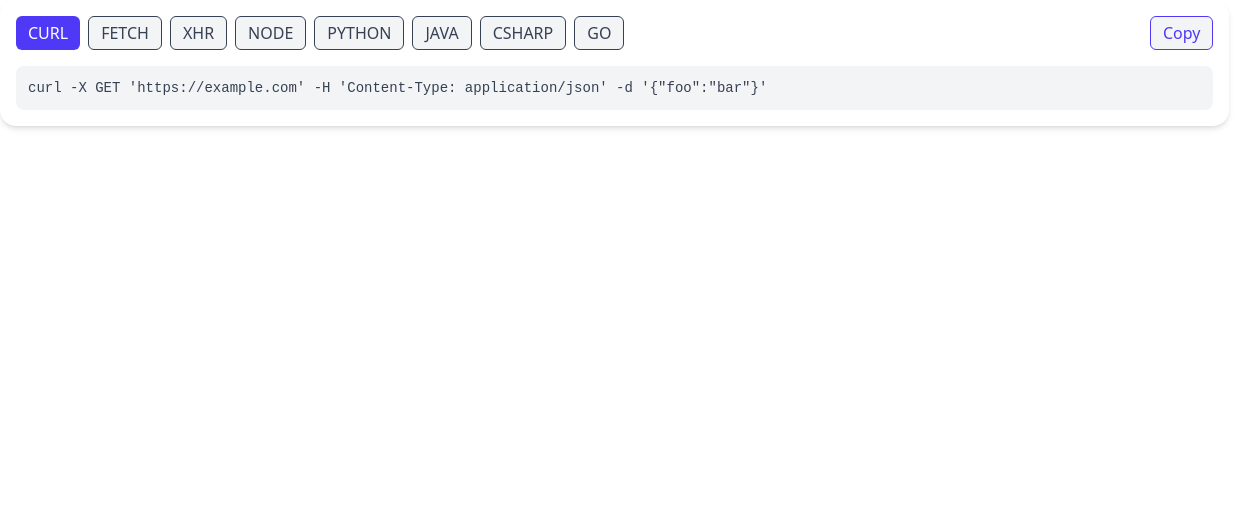
CodeGenerator › generates java code
The image size is (1247, 527).
Click the button "JAVA": (442, 33) top-left (412, 16), bottom-right (472, 50)
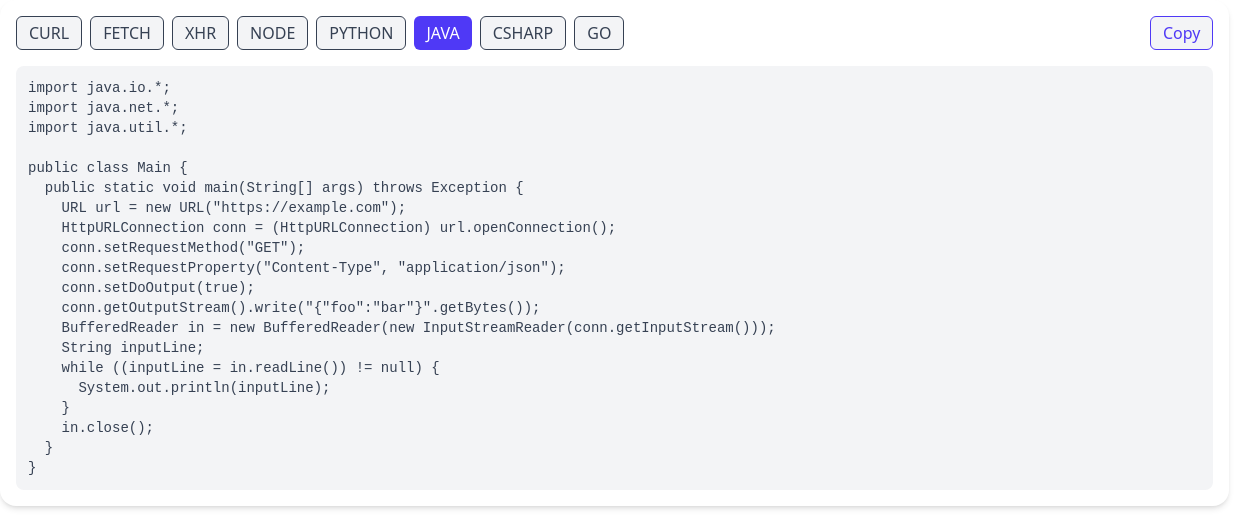
Expected: the text "public class Main" is shown, top-left (28, 80), bottom-right (776, 476)
